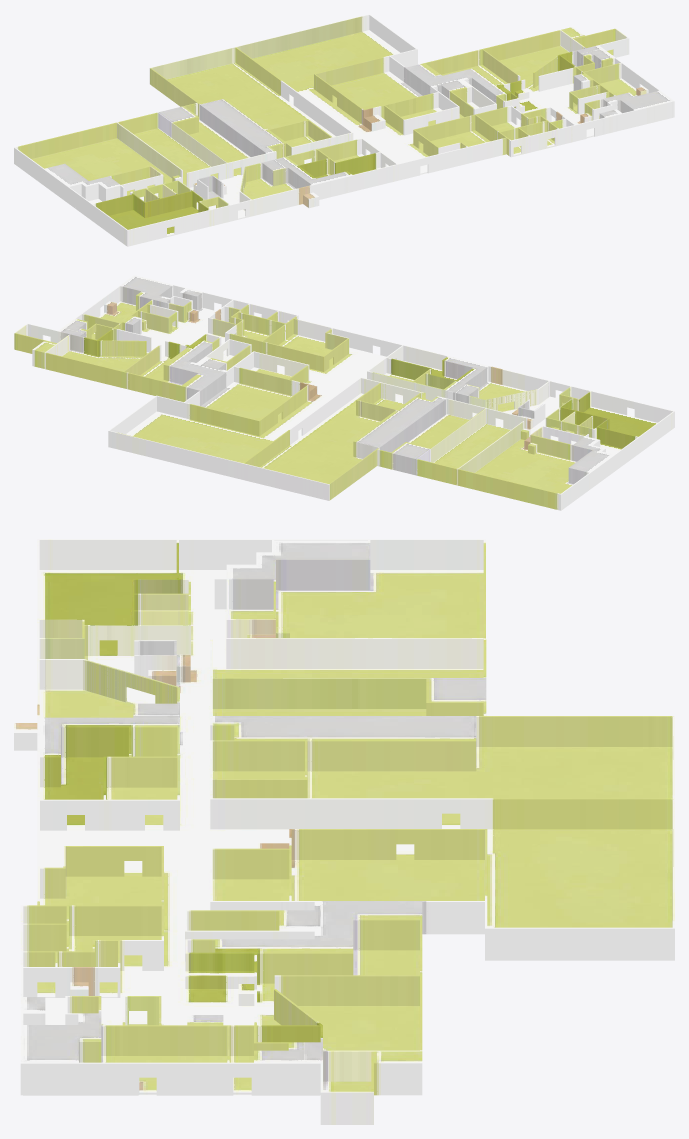
Rendered from 1_floor.glb.
3 views of the same model, one above another, from view 1: azimuth 30°, elevation 25°; view 2: azimuth 150°, elevation 25°; view 3: azimuth 270°, elevation 25° (orthographic). The views are drawn at different scales.
Visible parts, largest first — view 1: Group014, Line017, Box190, Group026, Box263, Box170, Box191, Box196, Line025, Box280, Box262, Line062 (+54 smaller); view 2: Group014, Line017, Box190, Box280, Box191, Line025, Box196, Box173, Box193, Group026, Line062, Box170 (+63 smaller); view 3: Group014, Box190, Line017, Line025, Box276, Box196, Box247, Box254, Line037, Box170, Group026, Box184 (+59 smaller).
Part boxes in pixels (x1,y1,x2,y2): Group014: [14, 14, 674, 230]; Line017: [149, 62, 335, 150]; Box190: [252, 30, 400, 95]; Group026: [93, 51, 614, 217]; Box263: [512, 101, 674, 155]; Box170: [14, 138, 145, 184]; Box191: [237, 15, 369, 58]; Box196: [331, 71, 422, 109]; Line025: [238, 116, 428, 179]; Box280: [426, 30, 560, 74]; Box262: [397, 138, 506, 180]; Line062: [201, 99, 284, 152]; Group014: [14, 275, 674, 494]; Line017: [242, 393, 403, 500]; Box190: [126, 411, 274, 462]; Box280: [32, 350, 199, 401]; Box191: [108, 431, 242, 479]; Line025: [296, 347, 477, 416]; Box196: [201, 382, 291, 422]; Box173: [458, 469, 561, 510]; Box193: [157, 396, 259, 436]; Group026: [80, 300, 609, 447]; Line062: [355, 397, 444, 446]; Box170: [457, 463, 590, 510]; Group014: [20, 539, 674, 1092]; Box190: [487, 829, 673, 960]; Line017: [212, 747, 672, 828]; Line025: [40, 717, 289, 885]; Box276: [23, 1063, 320, 1095]; Box196: [291, 859, 484, 934]; Box247: [210, 799, 486, 829]; Box254: [212, 741, 474, 771]; Line037: [45, 885, 273, 1025]; Box170: [368, 570, 483, 637]; Group026: [61, 716, 476, 1055]; Box184: [212, 679, 426, 708].
Bounding box in the file's own units: 166418 × 4501 × 83980.
Materials: 1 (1 with a texture image).
